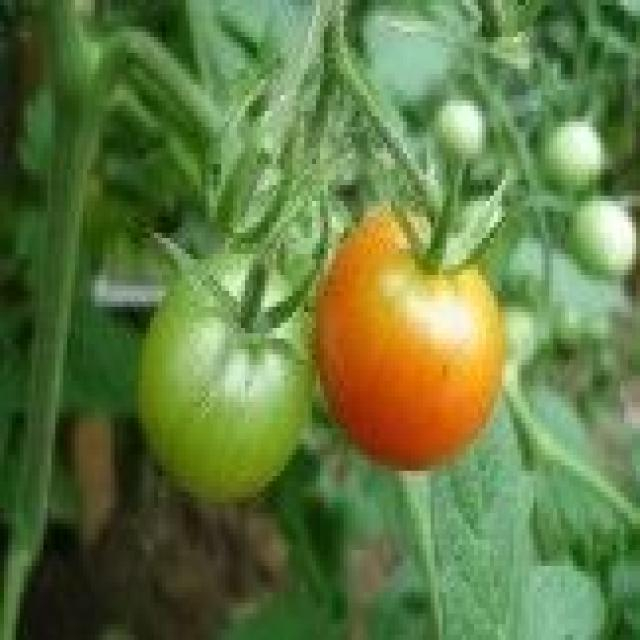level 1: (109, 241, 318, 521)
level 2: (532, 102, 612, 203), (572, 182, 640, 287), (428, 82, 489, 166)
level 5: (304, 202, 515, 474)
